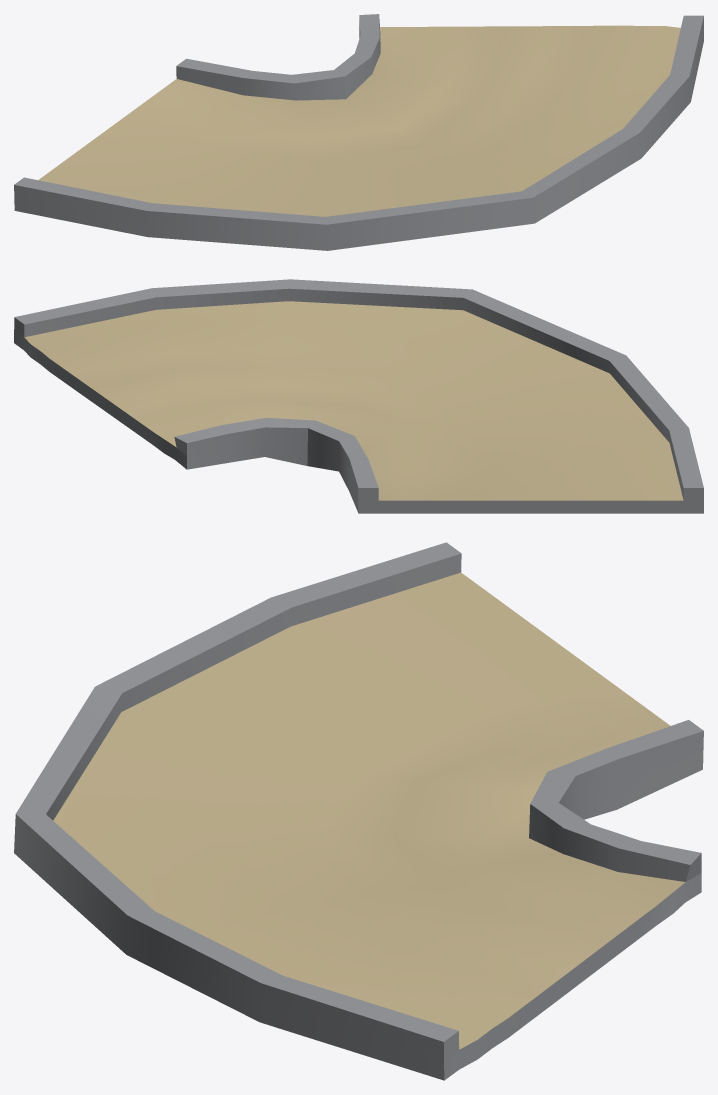
The model's file is Sidewalk_5.gltf.
3 renders of one model, top to bottom at view 1: azimuth 30°, elevation 25°; view 2: azimuth 150°, elevation 25°; view 3: azimuth 270°, elevation 25°, orthographic. The views are drawn at different scales.
Parts seen in each view (by area): view 1: sidewalk; view 2: sidewalk; view 3: sidewalk.
Boxes of the visible parts, x1,y1,x2,y2 form: sidewalk: (14, 14, 703, 250); sidewalk: (14, 279, 703, 513); sidewalk: (14, 542, 703, 1080).
Bounding box in the file's own units: 0.7563 × 0.045 × 0.4389.
Materials: 1 (1 with a texture image).
